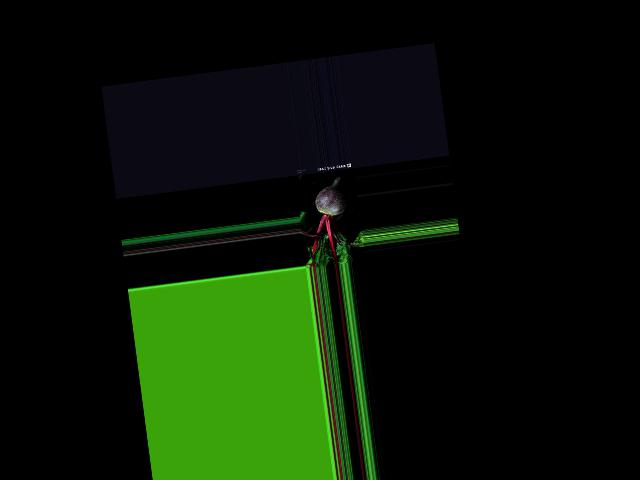beet: (294, 174, 365, 268)
